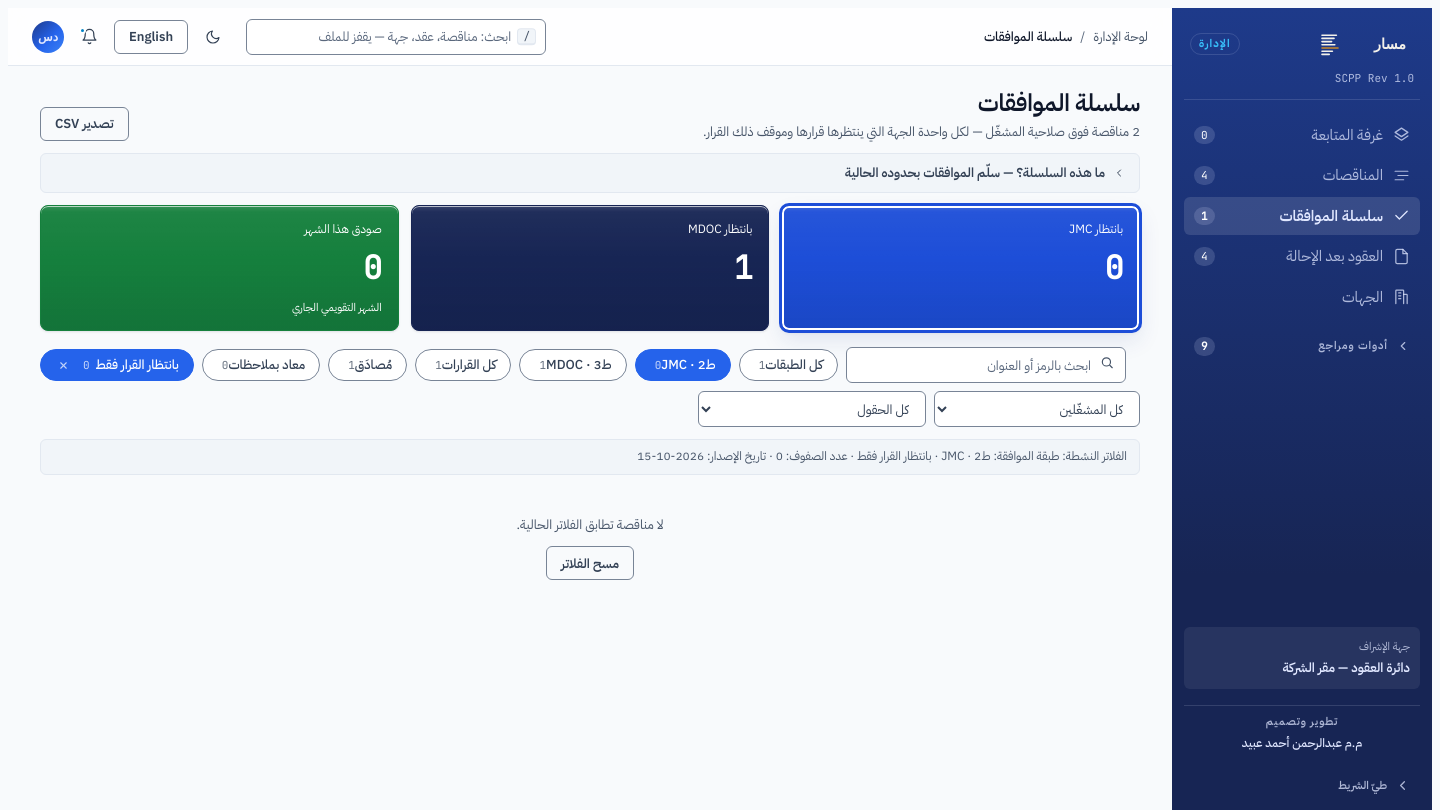
it: the pending-approval tiles open exactly the signatures they counted › says why the registry is short, and widens it in one click
Click the button named "أزل المرشّح: بانتظار القرار فقط". click: (63, 365)
box: [55, 357, 71, 373]
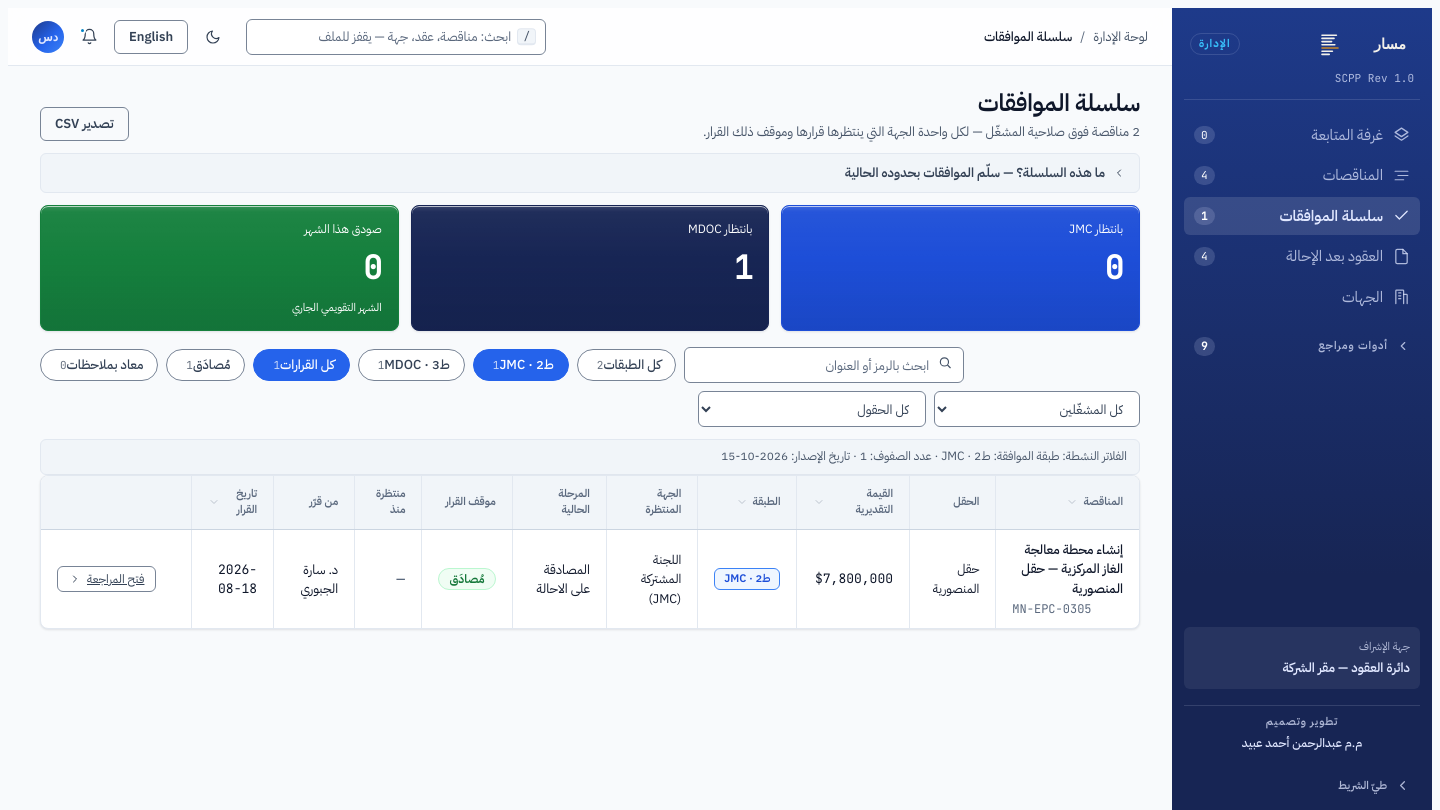
Expected: the text "MN-EPC-0305" is shown, [1012, 601, 1092, 617]
